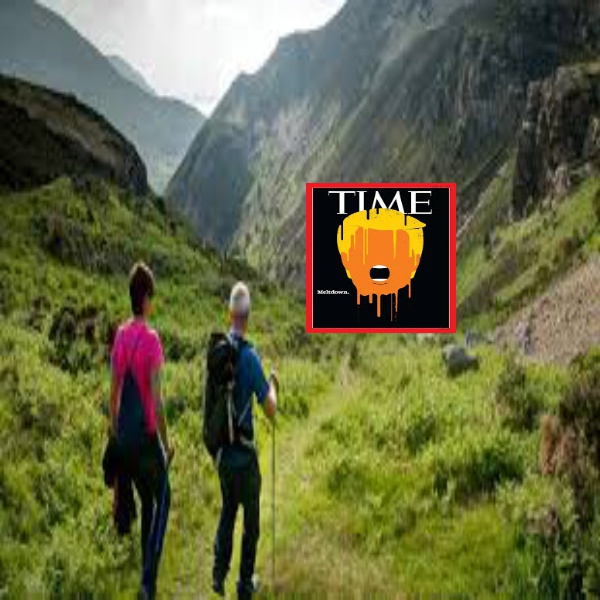time_cover: (307, 180, 456, 334)
